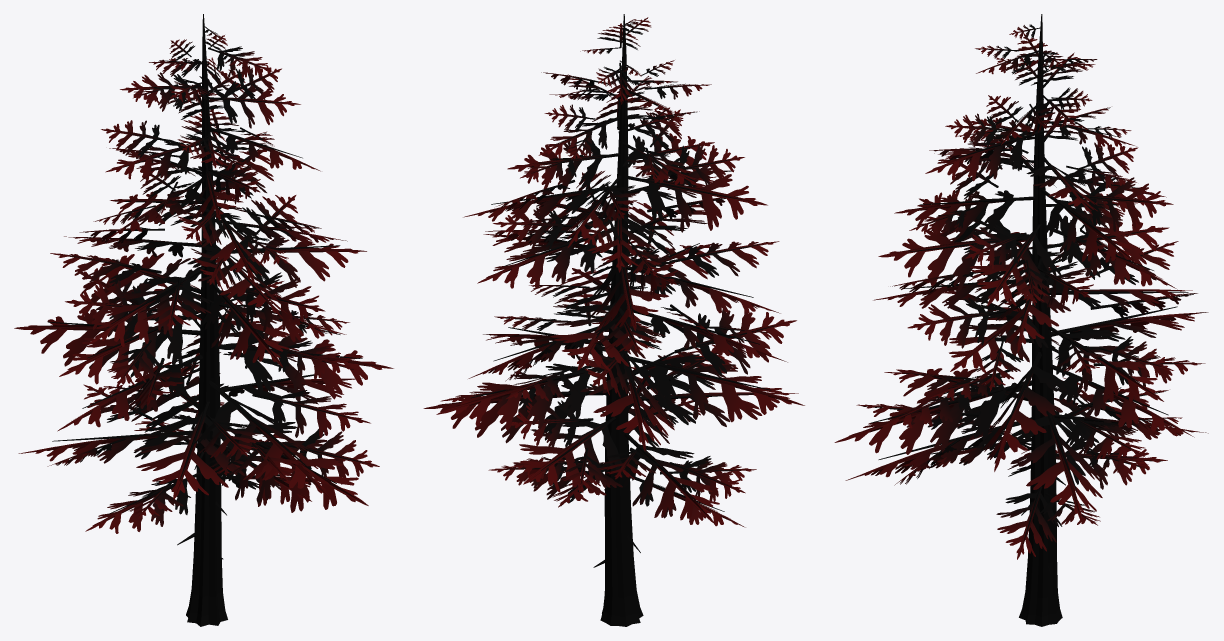
The model's file is SM_GN_Pine_B.fbx.
3 renders of one model, left to right at view 1: azimuth 30°, elevation 25°; view 2: azimuth 150°, elevation 25°; view 3: azimuth 270°, elevation 25°, orthographic.
Parts seen in each view (by area): view 1: SM_GN_Pine_B.001; view 2: SM_GN_Pine_B.001; view 3: SM_GN_Pine_B.001.
Part boxes in pixels (left/top/right/bottom): SM_GN_Pine_B.001: left=14, top=14, right=393, bottom=626; SM_GN_Pine_B.001: left=423, top=14, right=804, bottom=626; SM_GN_Pine_B.001: left=834, top=14, right=1208, bottom=626.
Bounding box in the file's own units: 4.77 × 4.52 × 8.
